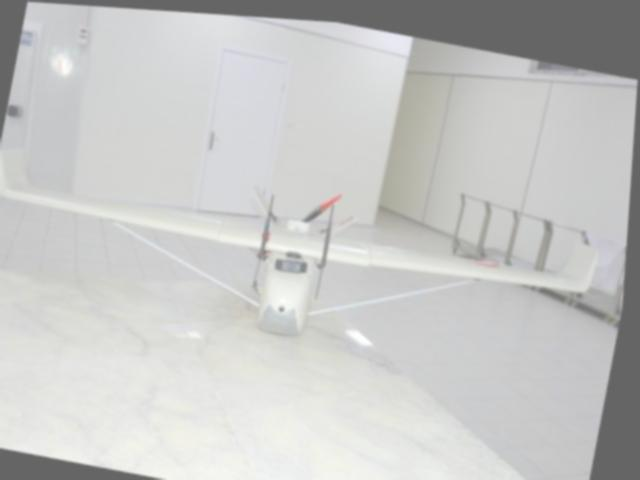iha: (0, 118, 622, 392)
